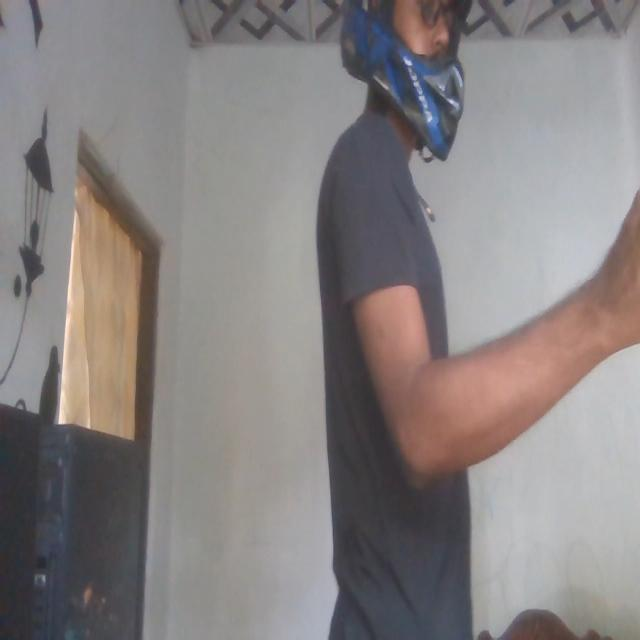Helmet_Wearer: (337, 0, 464, 156)
Person: (312, 0, 505, 636)
